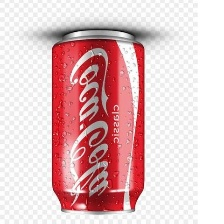can: (47, 26, 148, 216)
